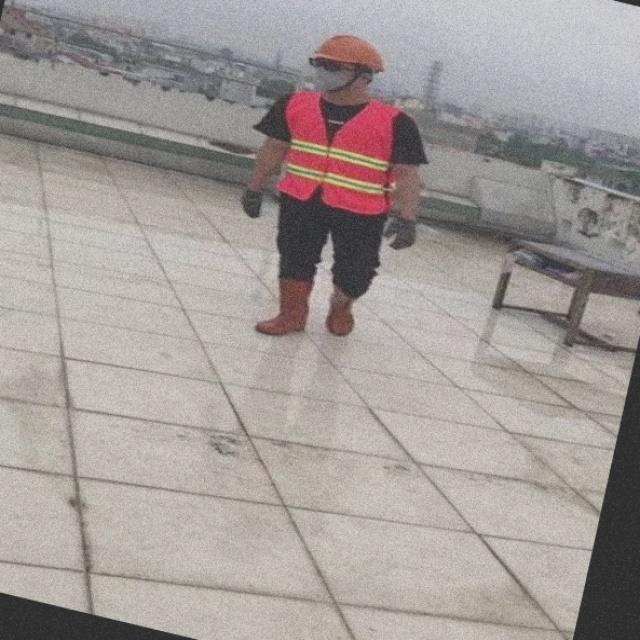Capacete: (310, 35, 383, 72)
Colete: (277, 92, 399, 214)
Oculos: (309, 58, 352, 71)
Pessoa: (242, 35, 426, 335)
